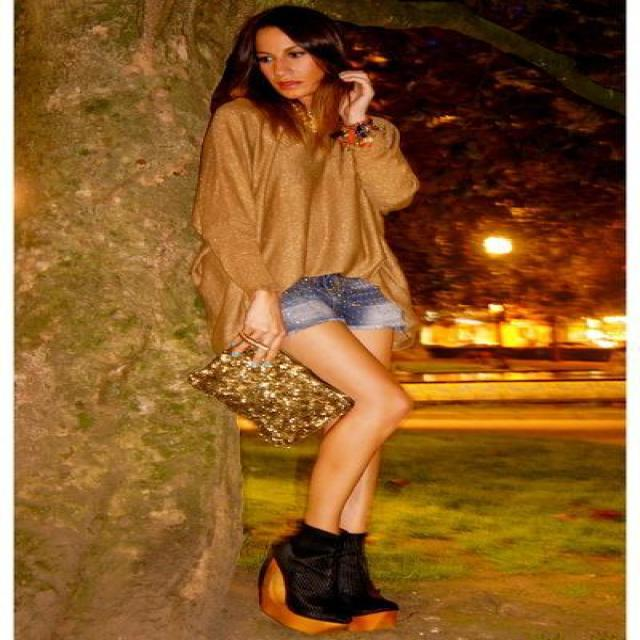bag: (301, 358, 347, 392)
jacket: (176, 98, 418, 319)
shoe: (249, 524, 396, 618)
shorts: (278, 271, 406, 334)
